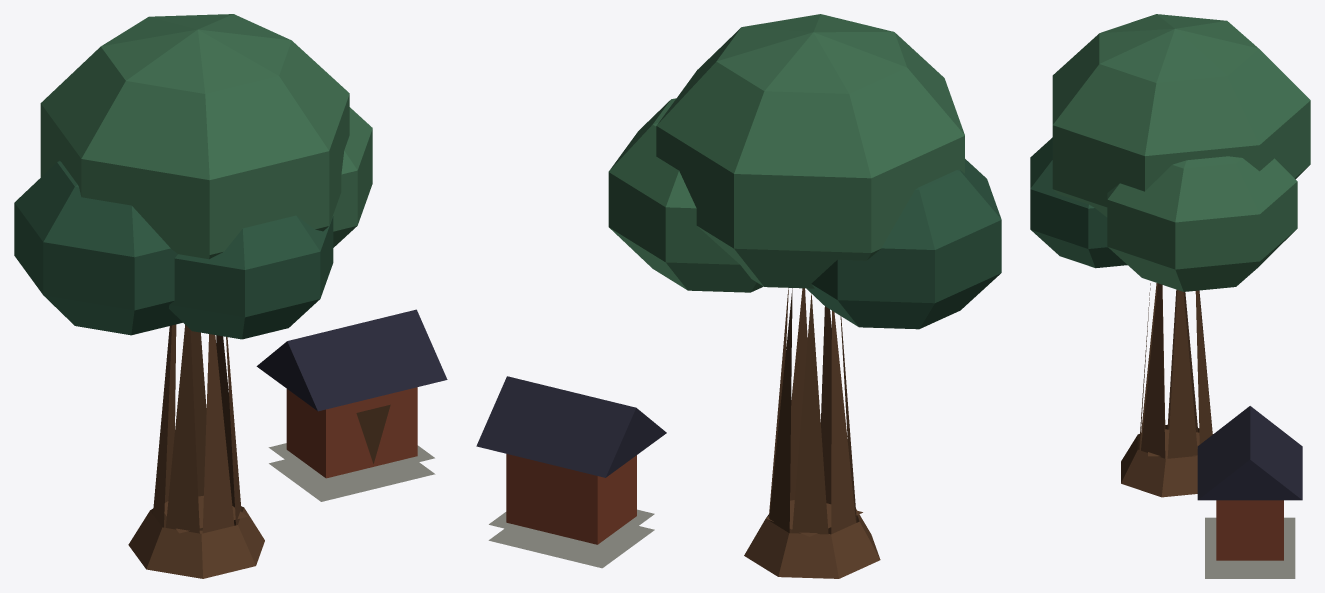
Rendered from prop_seonangdang_lod1.glb.
3 renders of one model, left to right at view 1: azimuth 30°, elevation 25°; view 2: azimuth 150°, elevation 25°; view 3: azimuth 270°, elevation 25°, orthographic. The views are drawn at different scales.
Visible parts, largest first — view 1: prop_seonangdang_lod1; view 2: prop_seonangdang_lod1; view 3: prop_seonangdang_lod1.
Boxes of the visible parts, x1,y1,x2,y2 form: prop_seonangdang_lod1: (14,14,447,578); prop_seonangdang_lod1: (476,14,1001,578); prop_seonangdang_lod1: (1030,14,1310,578).
Size of the model in its own units: 5.7 by 6.52 by 3.74.
